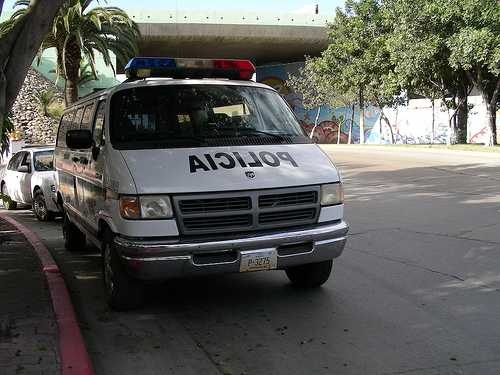Ambulance: (35, 55, 350, 298)
